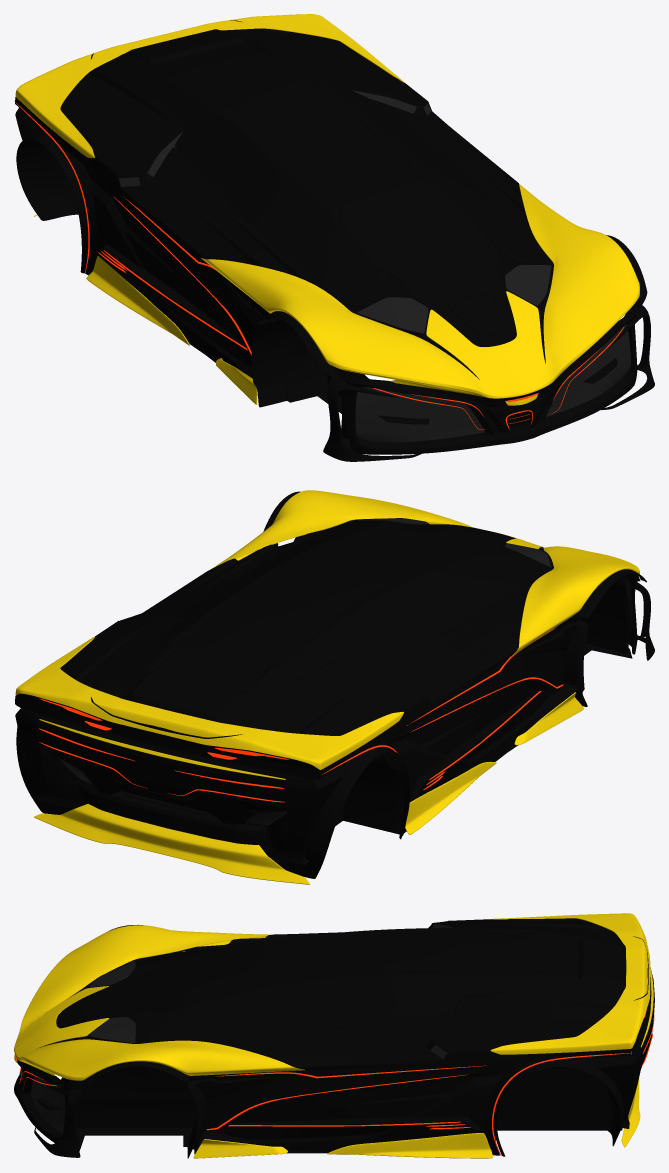
Rendered from concept_car_chassis.gltf.
The picture shows the model from 3 angles, top to bottom: view 1: azimuth 30°, elevation 25°; view 2: azimuth 150°, elevation 25°; view 3: azimuth 270°, elevation 25°; orthographic projection. The views are drawn at different scales.
Visible parts, largest first — view 1: Cube.003_glass_0, Cube.006_body_0, Cube.002_glass_0, Cube.042_plastic_smooth_0, Cube_plastic_smooth_0, Cube.040_plastic_smooth_0, Cube.026_plastic_smooth_0, Cube.023_grill_0, Cube.011_body_0, Cube.039_plastic_smooth_0, Cube.001_plastic_smooth_0, Cube.025_plastic_smooth_0 (+10 smaller); view 2: Cube.003_glass_0, Cube.042_plastic_smooth_0, Cube.002_glass_0, Cube.018_plastic_smooth_0, Cube.040_plastic_smooth_0, Cube_plastic_smooth_0, Cube.011_body_0, Cube.006_body_0, Cube.010_body_0, Cube.047_blocker_0, Cube.039_plastic_smooth_0, Cube.009_plastic_smooth_0 (+13 smaller); view 3: Cube.040_plastic_smooth_0, Cube.003_glass_0, Cube.002_glass_0, Cube.006_body_0, Cube.042_plastic_smooth_0, Cube.047_blocker_0, Cube_plastic_smooth_0, Cube.011_body_0, Cube.007_body_0, Cube.001_plastic_smooth_0, Cube.039_plastic_smooth_0, Cube.026_plastic_smooth_0 (+17 smaller).
Boxes of the visible parts, x1,y1,x2,y2 form: Cube.003_glass_0: (155,43,516,346); Cube.006_body_0: (201,184,639,405); Cube.002_glass_0: (154,50,544,307); Cube.042_plastic_smooth_0: (60,28,427,178); Cube_plastic_smooth_0: (87,82,532,317); Cube.040_plastic_smooth_0: (59,136,531,400); Cube.026_plastic_smooth_0: (341,314,637,454); Cube.023_grill_0: (355,324,630,442); Cube.011_body_0: (15,14,403,158); Cube.039_plastic_smooth_0: (16,129,89,273); Cube.001_plastic_smooth_0: (224,280,296,407); Cube.025_plastic_smooth_0: (323,305,654,461); Cube.003_glass_0: (155,524,515,692); Cube.042_plastic_smooth_0: (60,612,427,735); Cube.002_glass_0: (154,520,544,679); Cube.018_plastic_smooth_0: (39,720,286,845); Cube.040_plastic_smooth_0: (153,544,569,801); Cube_plastic_smooth_0: (93,529,573,724); Cube.011_body_0: (15,636,403,779); Cube.006_body_0: (211,490,639,656); Cube.010_body_0: (34,804,310,884); Cube.047_blocker_0: (38,520,629,863); Cube.039_plastic_smooth_0: (16,720,410,878); Cube.009_plastic_smooth_0: (15,693,321,779); Cube.040_plastic_smooth_0: (186,1061,558,1152); Cube.003_glass_0: (56,932,578,1028); Cube.002_glass_0: (137,928,536,1042); Cube.006_body_0: (14,925,304,1080); Cube.042_plastic_smooth_0: (431,918,625,1052); Cube.047_blocker_0: (45,919,630,1155); Cube_plastic_smooth_0: (178,919,499,1076); Cube.011_body_0: (490,913,653,1054); Cube.007_body_0: (327,1133,492,1158); Cube.001_plastic_smooth_0: (187,1076,273,1158); Cube.039_plastic_smooth_0: (493,1058,624,1156); Cube.026_plastic_smooth_0: (14,1059,78,1147).
Bounding box in the file's own units: 2.29 × 1.06 × 4.37.
9 materials, 2 textured.
